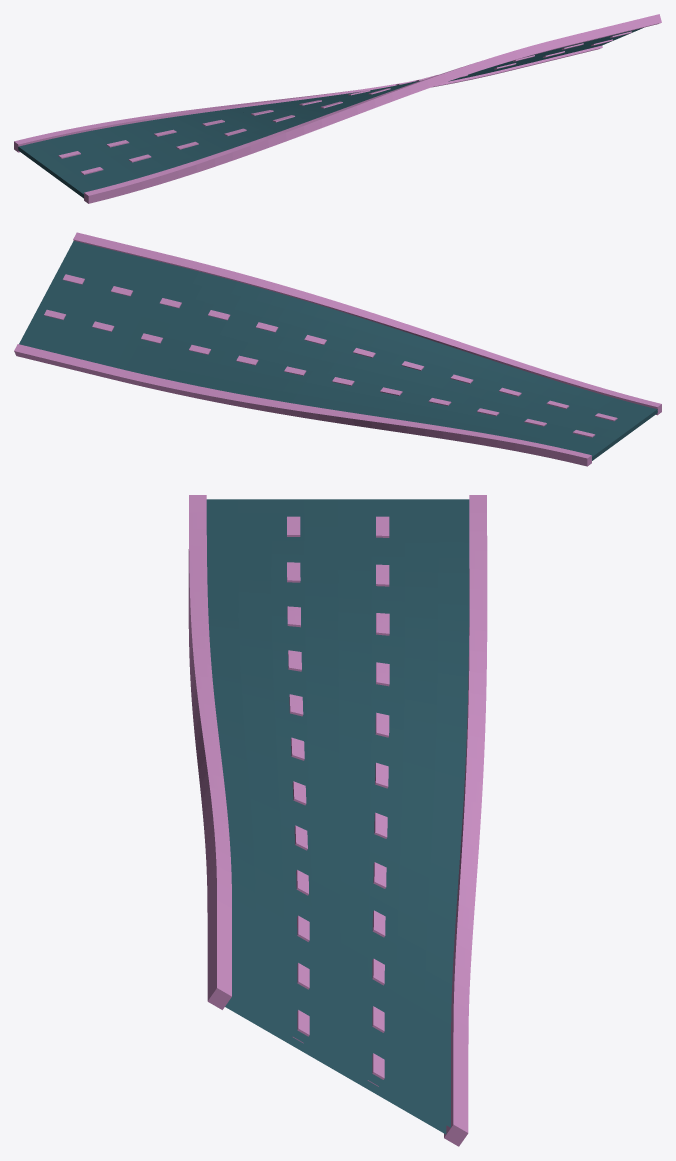
The model's file is weg9.obj.
The picture shows the model from 3 angles, top to bottom: view 1: azimuth 30°, elevation 25°; view 2: azimuth 150°, elevation 25°; view 3: azimuth 270°, elevation 25°; orthographic projection. The views are drawn at different scales.
Parts seen in each view (by area): view 1: Cube.001; view 2: Cube.001; view 3: Cube.001.
Boxes of the visible parts, bbox=[...] form: Cube.001: bbox=[14, 14, 661, 203]; Cube.001: bbox=[14, 232, 661, 466]; Cube.001: bbox=[188, 495, 487, 1146].
Bounding box in the file's own units: 60 × 7.88 × 13.42.
Materials: 32 (32 with a texture image).
